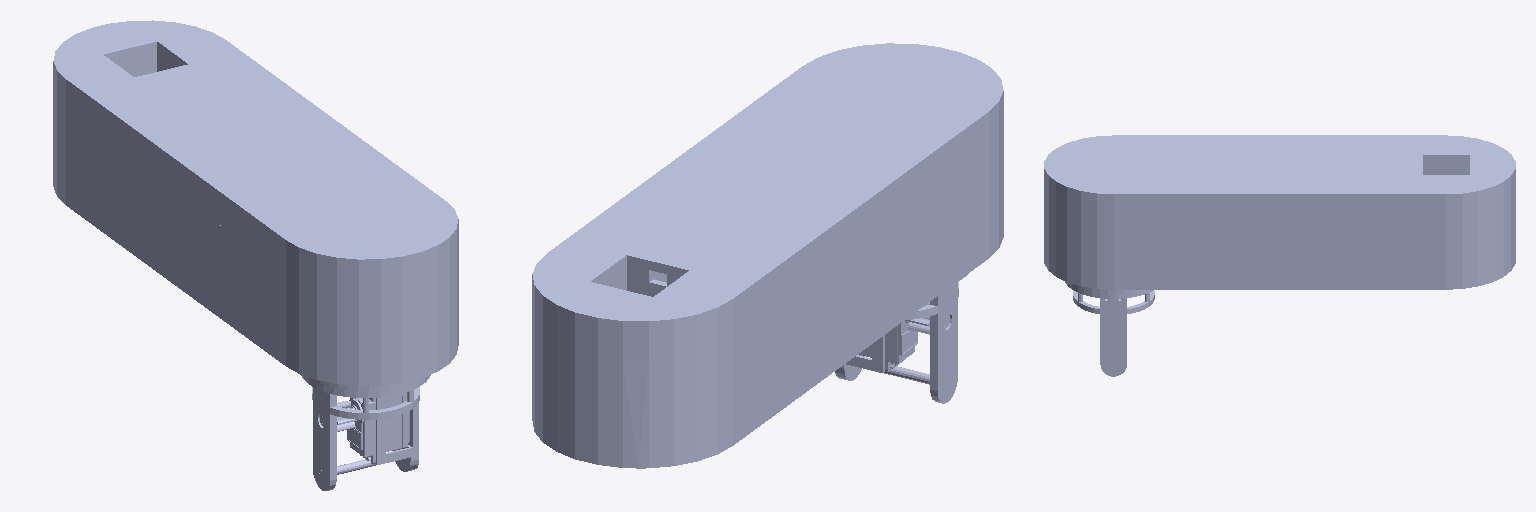
The robot description file, URDF, robot "robot":
<?xml version="1.0" encoding="utf-8"?>
<!-- This URDF was automatically created by SolidWorks to URDF Exporter! Originally created by [author] ([email redacted]) 
     Commit Version: 1.6.0-1-g15f4949  Build Version: 1.6.7594.29634
     For more information, please see http://wiki.ros.org/sw_urdf_exporter -->
<robot
  name="robot">
  
  <link name="world"/>
  <joint name="base_joint" type="fixed">
  	<parent link="world"/>
  	<child link="base_link"/>
  	<origin rpy="-1.5708 0 0" xyz="0.0 0.0 0.0"/>
  </joint>
  <link
    name="base_link">
    <inertial>
      <origin
        xyz="-0.044019 -0.07242 0.079605"
        rpy="0 0 0" />
      <mass
        value="5" />
      <inertia
        ixx="0.002621"
        ixy="2.8857E-05"
        ixz="-4.632E-05"
        iyy="0.0070981"
        iyz="1.3999E-05"
        izz="0.0092405" />
    </inertial>
    <visual>
      <origin
        xyz="0 0 0"
        rpy="0 0 0" />
      <geometry>
        <mesh
          filename="package://robot/meshes/base_link.STL" />
      </geometry>
      <material
        name="">
        <color
          rgba="0.79216 0.81961 0.93333 1" />
      </material>
    </visual>
    <collision>
      <origin
        xyz="0 0 0"
        rpy="0 0 0" />
      <geometry>
        <mesh
          filename="package://robot/meshes/base_link.STL" />
      </geometry>
    </collision>
  </link>
  <link
    name="link1">
    <inertial>
      <origin
        xyz="0.0042013 0.31899 -0.0042033"
        rpy="0 0 0" />
      <mass
        value="4" />
      <inertia
        ixx="0.010036"
        ixy="9.1227E-08"
        ixz="-4.9329E-06"
        iyy="0.0023642"
        iyz="-3.3872E-08"
        izz="0.010036" />
    </inertial>
    <visual>
      <origin
        xyz="0 0 0"
        rpy="0 0 0" />
      <geometry>
        <mesh
          filename="package://robot/meshes/link1.STL" />
      </geometry>
      <material
        name="">
        <color
          rgba="0.79216 0.81961 0.93333 1" />
      </material>
    </visual>
    <collision>
      <origin
        xyz="0 0 0"
        rpy="0 0 0" />
      <geometry>
        <mesh
          filename="package://robot/meshes/link1.STL" />
      </geometry>
    </collision>
  </link>
  <joint
    name="joint1"
    type="revolute">
    <origin
      xyz="0.049071 -0.083804 -0.08077"
      rpy="0 -0.78604 3.1416" />
    <parent
      link="base_link" />
    <child
      link="link1" />
    <axis
      xyz="0 1 0" />
    <limit
      lower="0"
      upper="6.28"
      effort="200"
      velocity="10" />
  </joint>
  <link
    name="link2">
    <inertial>
      <origin
        xyz="0.22838 4.6872E-05 0.057672"
        rpy="0 0 0" />
      <mass
        value="3.5" />
      <inertia
        ixx="0.0041793"
        ixy="2.9555E-06"
        ixz="-1.9573E-05"
        iyy="0.020257"
        iyz="2.7634E-06"
        izz="0.023018" />
    </inertial>
    <visual>
      <origin
        xyz="0 0 0"
        rpy="0 0 0" />
      <geometry>
        <mesh
          filename="package://robot/meshes/link2.STL" />
      </geometry>
      <material
        name="">
        <color
          rgba="0.79216 0.81961 0.93333 1" />
      </material>
    </visual>
    <collision>
      <origin
        xyz="0 0 0"
        rpy="0 0 0" />
      <geometry>
        <mesh
          filename="package://robot/meshes/link2.STL" />
      </geometry>
    </collision>
  </link>
  <joint
    name="joint2"
    type="prismatic">
    <origin
      xyz="-3.5836E-05 0.482 0.00030003"
      rpy="1.5708 -0.78604 -3.1416" />
    <parent
      link="link1" />
    <child
      link="link2" />
    <axis
      xyz="0 0 1" />
    <limit
      lower="-0.45"
      upper="-0"
      effort="200"
      velocity="0.1" />
  </joint>
  <link
    name="link3">
    <inertial>
      <origin
        xyz="0.1521 4.4608E-05 0.0474"
        rpy="0 0 0" />
      <mass
        value="2.5" />
      <inertia
        ixx="0.0024339"
        ixy="4.5696E-06"
        ixz="-0.000237"
        iyy="0.018082"
        iyz="-3.1424E-07"
        izz="0.019926" />
    </inertial>
    <visual>
      <origin
        xyz="0 0 0"
        rpy="0 0 0" />
      <geometry>
        <mesh
          filename="package://robot/meshes/link3.STL" />
      </geometry>
      <material
        name="">
        <color
          rgba="0.79216 0.81961 0.93333 1" />
      </material>
    </visual>
    <collision>
      <origin
        xyz="0 0 0"
        rpy="0 0 0" />
      <geometry>
        <mesh
          filename="package://robot/meshes/link3.STL" />
      </geometry>
    </collision>
  </link>
  <joint
    name="joint3"
    type="revolute">
    <origin
      xyz="0.402 0 0.1154"
      rpy="0 0 -1.5708" />
    <parent
      link="link2" />
    <child
      link="link3" />
    <axis
      xyz="0 0 1" />
    <limit
      lower="0"
      upper="3.14"
      effort="200"
      velocity="5" />
  </joint>
  <link
    name="link4">
    <inertial>
      <origin
        xyz="0.00081752 -0.11511 0.045937"
        rpy="0 0 0" />
      <mass
        value="1.5" />
      <inertia
        ixx="0.00038829"
        ixy="3.4267E-06"
        ixz="-4.0855E-06"
        iyy="0.00036372"
        iyz="-8.0054E-06"
        izz="0.00037722" />
    </inertial>
    <visual>
      <origin
        xyz="0 0 0"
        rpy="0 0 0" />
      <geometry>
        <mesh
          filename="package://robot/meshes/link4.STL" />
      </geometry>
      <material
        name="">
        <color
          rgba="0.79216 0.81961 0.93333 1" />
      </material>
    </visual>
    <collision>
      <origin
        xyz="0 0 0"
        rpy="0 0 0" />
      <geometry>
        <mesh
          filename="package://robot/meshes/link4.STL" />
      </geometry>
    </collision>
  </link>
  <joint
    name="joint4"
    type="revolute">
    <origin
      xyz="0.3 0 0"
      rpy="1.5708 0 -1.5708" />
    <parent
      link="link3" />
    <child
      link="link4" />
    <axis
      xyz="0 -1 0" />
    <limit
      lower="0"
      upper="3.14"
      effort="50"
      velocity="5" />
  </joint>
  
  <transmission name="link_1_trans">
  	<type>transmission_interface/SimpleTransmission</type>
  	<joint name="joint1">
	    <command_interface>position</command_interface>
	    <state_interface>position</state_interface>
	    <state_interface>velocity</state_interface>
  	</joint>
  	<actuator name="link_1_motor">
    		<mechanicalReduction>20</mechanicalReduction>
  	</actuator>
  </transmission>

  
  <transmission name="link_2_trans">
  	<type>transmission_interface/SimpleTransmission</type>
  	<joint name="joint2">
	    <command_interface>position</command_interface>
	    <state_interface>position</state_interface>
	    <state_interface>velocity</state_interface>
  	</joint>
  	<actuator name="link_2_motor">
    		<mechanicalReduction>10</mechanicalReduction>
  	</actuator>
  </transmission>
  
  <transmission name="link_3_trans">
  	<type>transmission_interface/SimpleTransmission</type>
  	<joint name="joint3">
	    <command_interface>position</command_interface>
	    <state_interface>position</state_interface>
	    <state_interface>velocity</state_interface>
  	</joint>
  	<actuator name="link_3_motor">
    		<mechanicalReduction>10</mechanicalReduction>
  	</actuator>
  </transmission>
  
  <transmission name="link_4_trans">
  	<type>transmission_interface/SimpleTransmission</type>
  	<joint name="joint4">
	    <command_interface>position</command_interface>
	    <state_interface>position</state_interface>
	    <state_interface>velocity</state_interface>
  	</joint>
  	<actuator name="link_4_motor">
    		<mechanicalReduction>5</mechanicalReduction>
  	</actuator>
  </transmission>
  
  <gazebo>
	  <plugin name="gazebo_ros2_control" filename="libgazebo_ros2_control.so">
	    <robot_sim_type>gazebo_ros2_control/DefaultRobotHWSim</robot_sim_type>
	  </plugin>
  </gazebo>

  
  <gazebo reference="link1">
	<selfCollide>true</selfCollide>
  </gazebo>
  
  <gazebo reference="link2">
	<selfCollide>true</selfCollide>
  </gazebo>
  
  <gazebo reference="link3">
	<selfCollide>true</selfCollide>
  </gazebo>
  
  <gazebo reference="link4">
	<selfCollide>true</selfCollide>
  </gazebo>
  
</robot>

--- Facts derived from the render (not from the file) ---
The picture shows the robot from 3 angles, left to right: view 1: azimuth 30°, elevation 25°; view 2: azimuth 150°, elevation 25°; view 3: azimuth 270°, elevation 25°; orthographic projection.
Model robot with 6 links and 5 joints (3 revolute, 1 prismatic, 1 fixed), rooted at world, posed all joints at 0.
Visible links, largest first — view 1: link3, link4; view 2: link3, link4; view 3: link3, link4.
Boxes of the visible links, x1,y1,x2,y2 form: link3: (53,20,458,391); link4: (301,375,430,490); link3: (532,43,1003,468); link4: (835,274,967,403); link3: (1044,135,1515,293); link4: (1065,281,1154,376).
Bounding box of the posed robot: 0.126 × 0.4251 × 0.1946 m (x, y, z).
2 mesh visuals loaded from 5 distinct referenced files (2 binary STL); not drawn: 3 (reference not matched to a file when rendering).